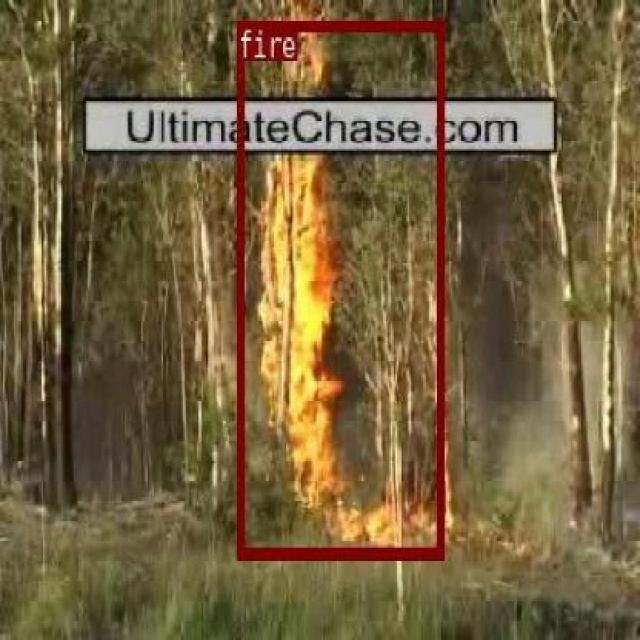Fire: (236, 19, 442, 556)
